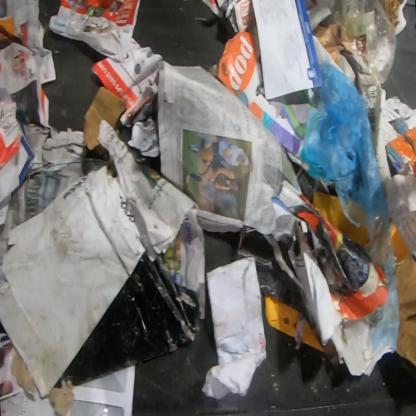cardboard: (0, 164, 147, 416), (63, 252, 201, 386), (48, 0, 142, 63), (83, 86, 126, 152), (394, 250, 416, 367)
soft_plastic: (298, 62, 400, 351), (320, 0, 397, 87), (387, 126, 415, 167)
